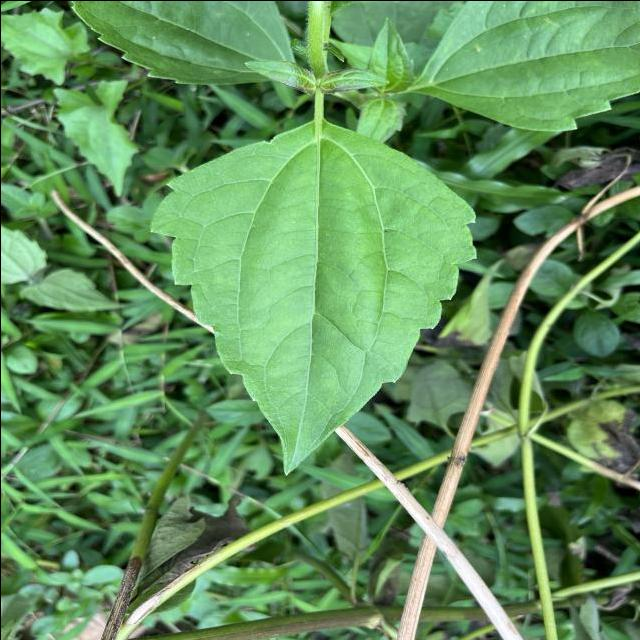Chromolaena odorata: (142, 114, 484, 481)
